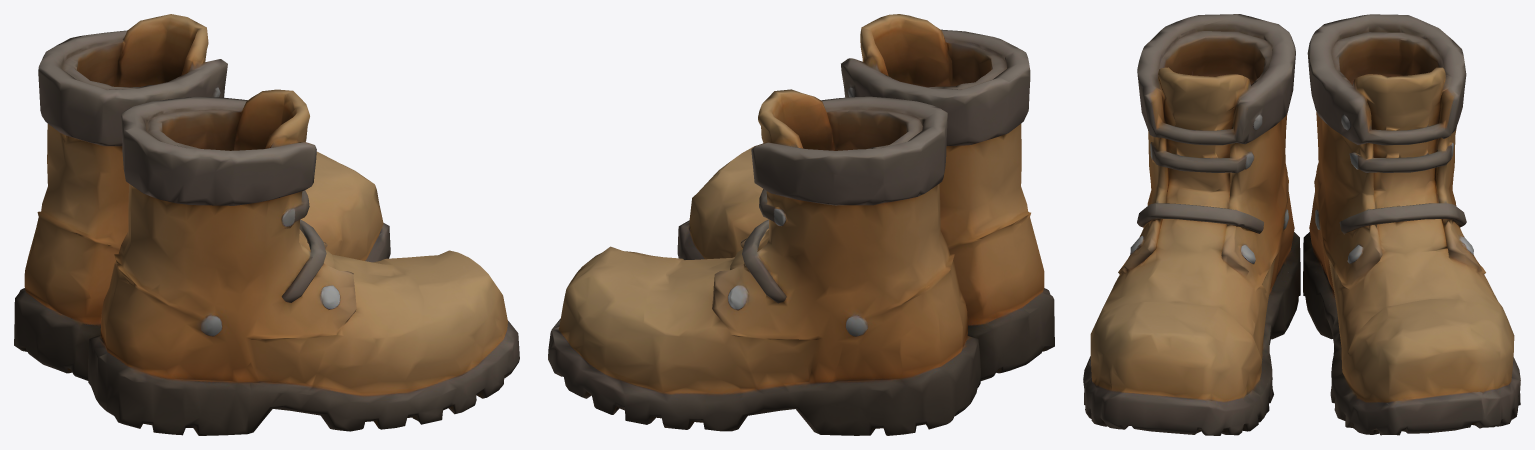
Rendered from safety-boots.glb.
The picture shows the model from 3 angles, left to right: view 1: azimuth 30°, elevation 25°; view 2: azimuth 150°, elevation 25°; view 3: azimuth 270°, elevation 25°; orthographic projection. The views are drawn at different scales.
Visible parts, largest first — view 1: tripo_node_dbc7a89a-a208-46cc-b6d9-f8ceda1f6102; view 2: tripo_node_dbc7a89a-a208-46cc-b6d9-f8ceda1f6102; view 3: tripo_node_dbc7a89a-a208-46cc-b6d9-f8ceda1f6102.
Boxes of the visible parts, <box> form: tripo_node_dbc7a89a-a208-46cc-b6d9-f8ceda1f6102: <box>14,14,519,435</box>; tripo_node_dbc7a89a-a208-46cc-b6d9-f8ceda1f6102: <box>548,14,1054,435</box>; tripo_node_dbc7a89a-a208-46cc-b6d9-f8ceda1f6102: <box>1083,14,1520,435</box>.
Bounding box in the file's own units: 0.9512 × 0.7322 × 1.
Materials: 1 (1 with a texture image).
